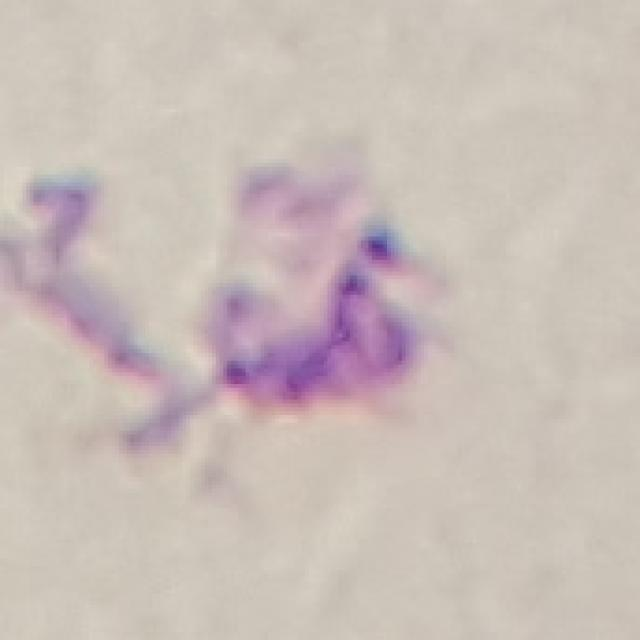non-sperm: (5, 170, 431, 420)
